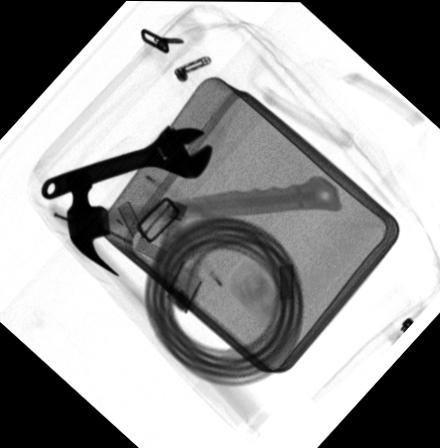Hammer: (66, 175, 342, 274)
Wrench: (38, 125, 214, 200)
